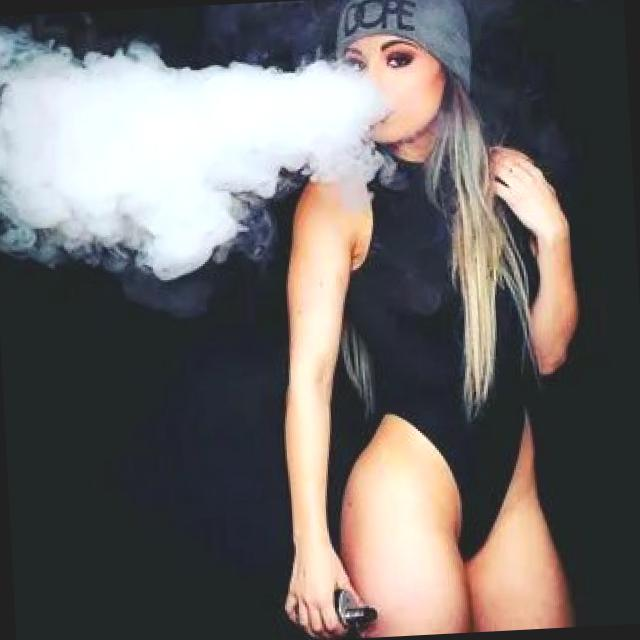cigarette: (322, 589, 392, 636)
